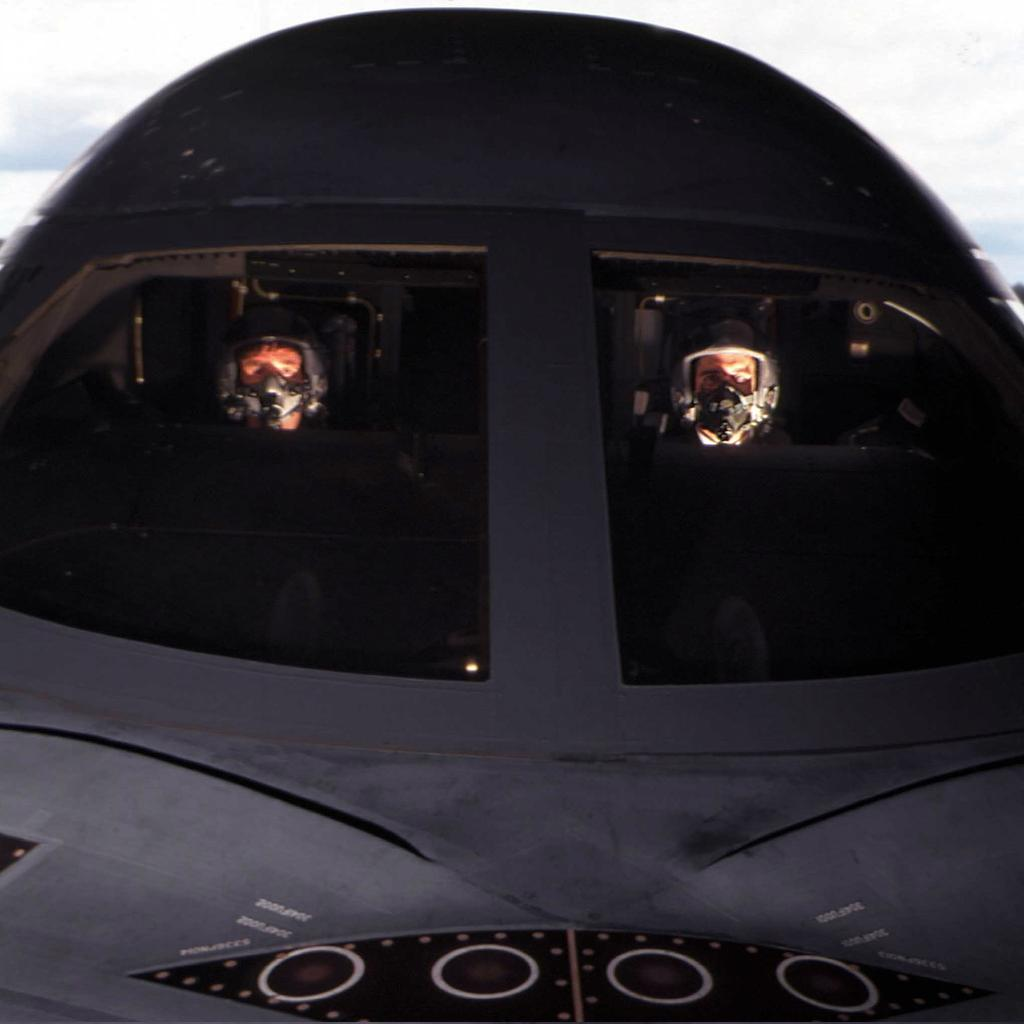B2: (1, 7, 1024, 1024)
